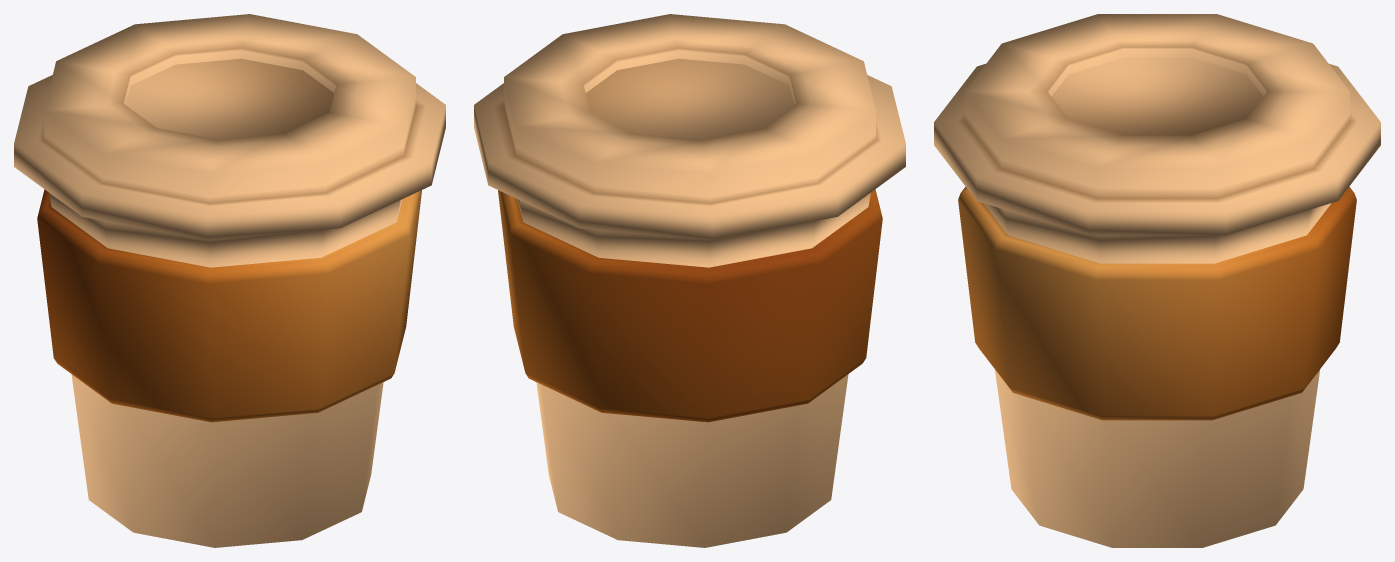
File: coffee_cup_D.glb
3 renders of one model, left to right at view 1: azimuth 30°, elevation 25°; view 2: azimuth 150°, elevation 25°; view 3: azimuth 270°, elevation 25°, orthographic.
Parts seen in each view (by area): view 1: coffee_cup_D; view 2: coffee_cup_D; view 3: coffee_cup_D.
Boxes of the visible parts, x1,y1,x2,y2 form: coffee_cup_D: [14, 14, 445, 547]; coffee_cup_D: [474, 14, 905, 547]; coffee_cup_D: [934, 14, 1380, 547].
Bounding box in the file's own units: 0.3526 × 0.3644 × 0.3707.
Materials: 1 (1 with a texture image).
